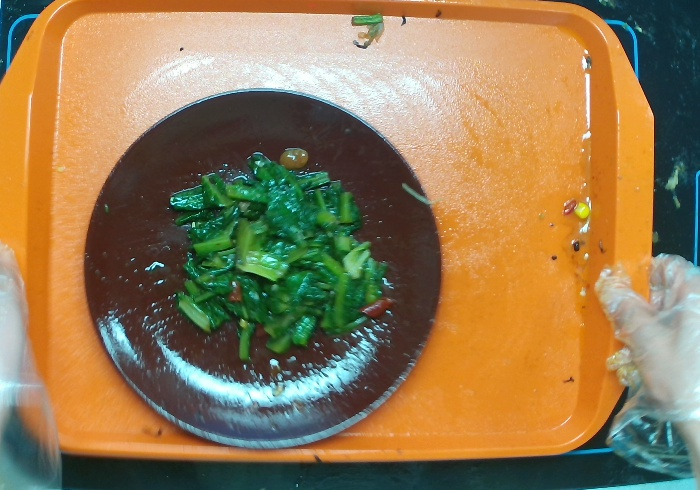HZYJPL-Ka_Fei_Yuan_Pan: (76, 76, 455, 469)
